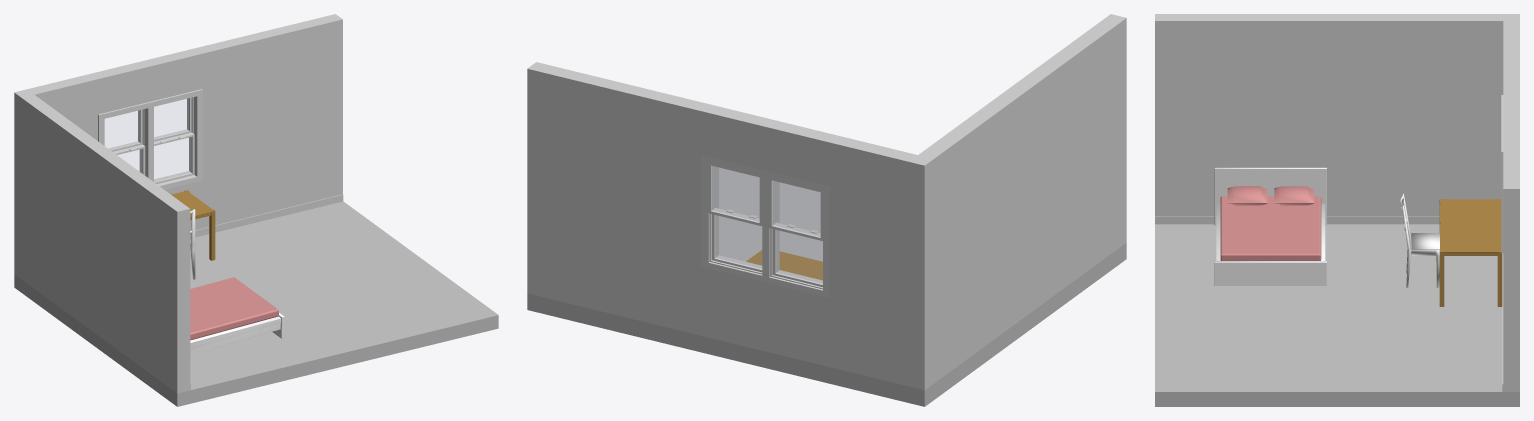
The model's file is L14_W16_furniture2_daylight3.glb.
The picture shows the model from 3 angles, left to right: view 1: azimuth 30°, elevation 25°; view 2: azimuth 150°, elevation 25°; view 3: azimuth 270°, elevation 25°; orthographic projection. The views are drawn at different scales.
Bounding box in the file's own units: 200 × 116 × 176.
